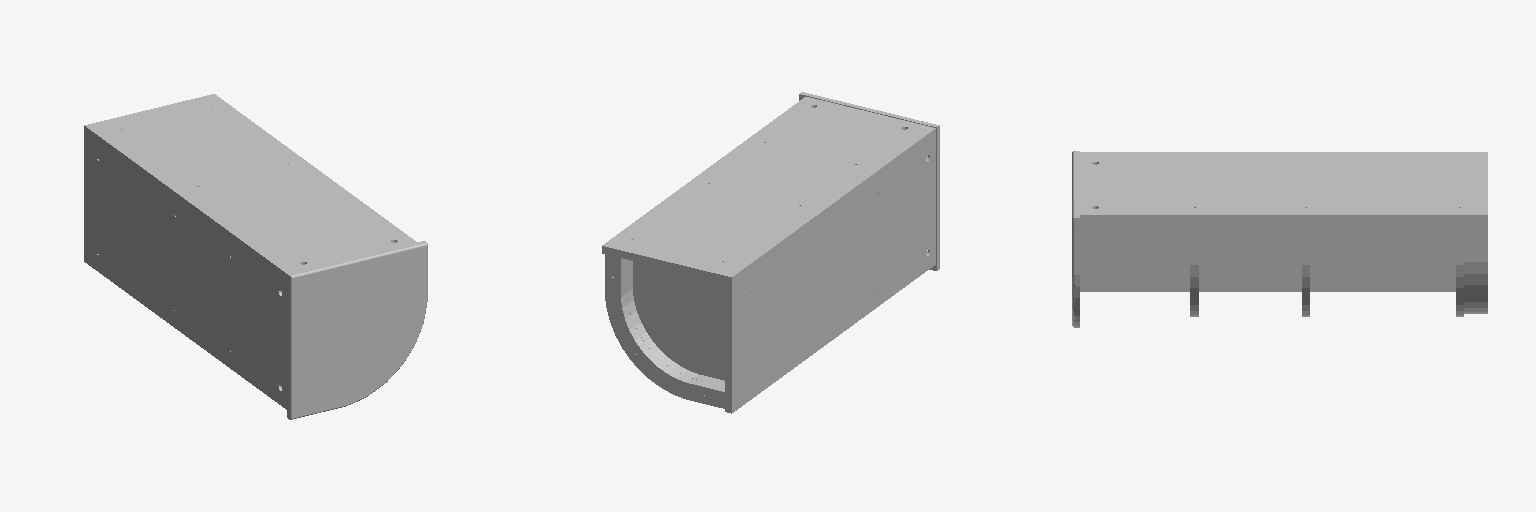
Rendered from corner_bookcase.obj.
3 renders of one model, left to right at view 1: azimuth 30°, elevation 25°; view 2: azimuth 150°, elevation 25°; view 3: azimuth 270°, elevation 25°, orthographic.
Visible parts, largest first — view 1: obj2504, obj1126, obj359, obj2503; view 2: obj2504, obj1126, obj555, obj1454, obj2503, obj1945, obj557; view 3: obj1944, obj1126, obj556, obj2503.
Part boxes in pixels (x1,y1,x2,y2): obj2504: (84,126,286,409); obj1126: (92,94,416,271); obj359: (293,246,426,417); obj2503: (84,124,293,273); obj2504: (732,129,935,412); obj1126: (602,97,928,275); obj555: (633,261,724,380); obj1454: (605,254,724,408); obj2503: (725,127,935,276); obj1945: (725,276,731,413); obj557: (602,246,724,282); obj1944: (1080,223,1455,291); obj1126: (1080,155,1487,214); obj556: (1080,215,1487,222); obj2503: (1080,152,1487,154).
Bounding box in the file's own units: 13.39 × 13.39 × 35.04.